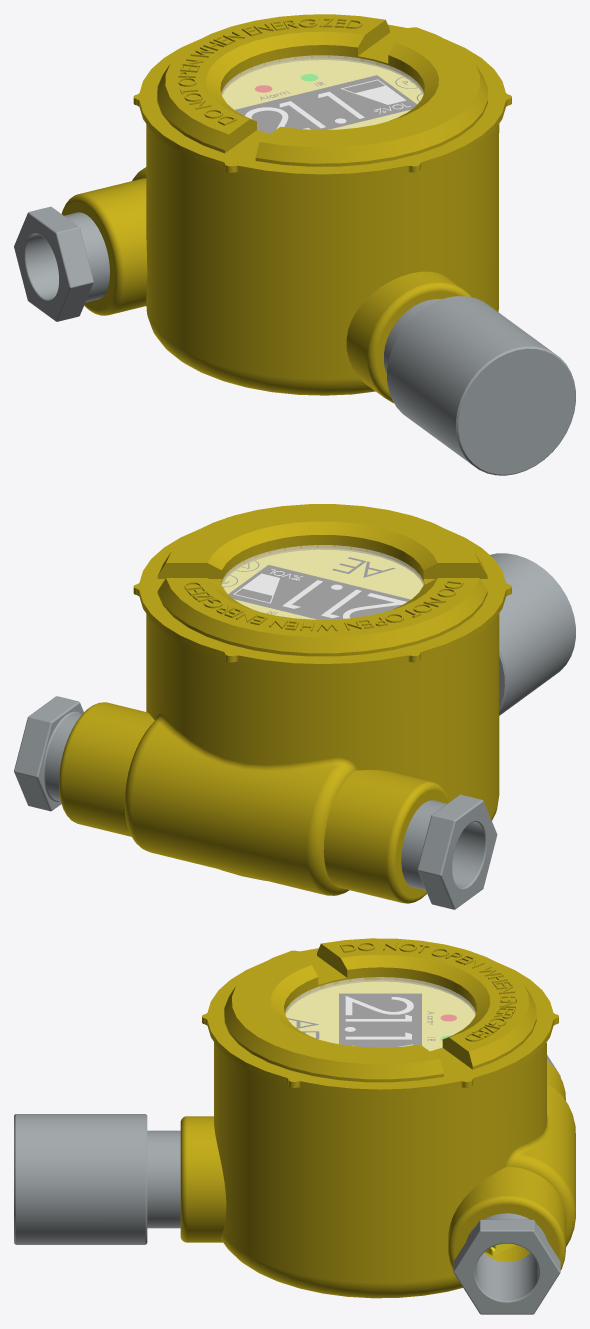
Rendered from Detector_de_Gases.fbx.
3 renders of one model, top to bottom at view 1: azimuth 30°, elevation 25°; view 2: azimuth 150°, elevation 25°; view 3: azimuth 270°, elevation 25°, orthographic. The views are drawn at different scales.
Parts seen in each view (by area): view 1: Corpo\Corpo-1, Tampa\Tampa-1, Sensor\Sensor-1, Vidro\Vidro-2, Visor\Visor-1, Reducao\Reducao-2; view 2: Corpo\Corpo-1, Tampa\Tampa-1, Vidro\Vidro-2, Visor\Visor-1, Sensor\Sensor-1, Reducao\Reducao-2, Reducao\Reducao-1; view 3: Corpo\Corpo-1, Tampa\Tampa-1, Sensor\Sensor-1, Vidro\Vidro-2, Visor\Visor-1, Reducao\Reducao-1.
Boxes of the visible parts, left/top/right/bottom form: Corpo\Corpo-1: left=61, top=124, right=499, bottom=403; Tampa\Tampa-1: left=133, top=14, right=511, bottom=180; Sensor\Sensor-1: left=384, top=296, right=575, bottom=475; Vidro\Vidro-2: left=221, top=55, right=423, bottom=133; Visor\Visor-1: left=222, top=60, right=422, bottom=133; Reducao\Reducao-2: left=14, top=206, right=109, bottom=321; Corpo\Corpo-1: left=59, top=613, right=499, bottom=903; Tampa\Tampa-1: left=133, top=504, right=511, bottom=670; Vidro\Vidro-2: left=221, top=545, right=423, bottom=619; Visor\Visor-1: left=222, top=550, right=422, bottom=619; Sensor\Sensor-1: left=490, top=553, right=575, bottom=715; Reducao\Reducao-2: left=401, top=794, right=497, bottom=909; Reducao\Reducao-1: left=14, top=696, right=83, bottom=811; Corpo\Corpo-1: left=180, top=1042, right=575, bottom=1298; Tampa\Tampa-1: left=202, top=938, right=558, bottom=1095; Sensor\Sensor-1: left=14, top=1114, right=180, bottom=1244; Vidro\Vidro-2: left=285, top=977, right=475, bottom=1050; Visor\Visor-1: left=286, top=982, right=513, bottom=1256; Reducao\Reducao-1: left=453, top=1213, right=560, bottom=1314.
Bounding box in the file's own units: 140 × 169 × 79.2.
